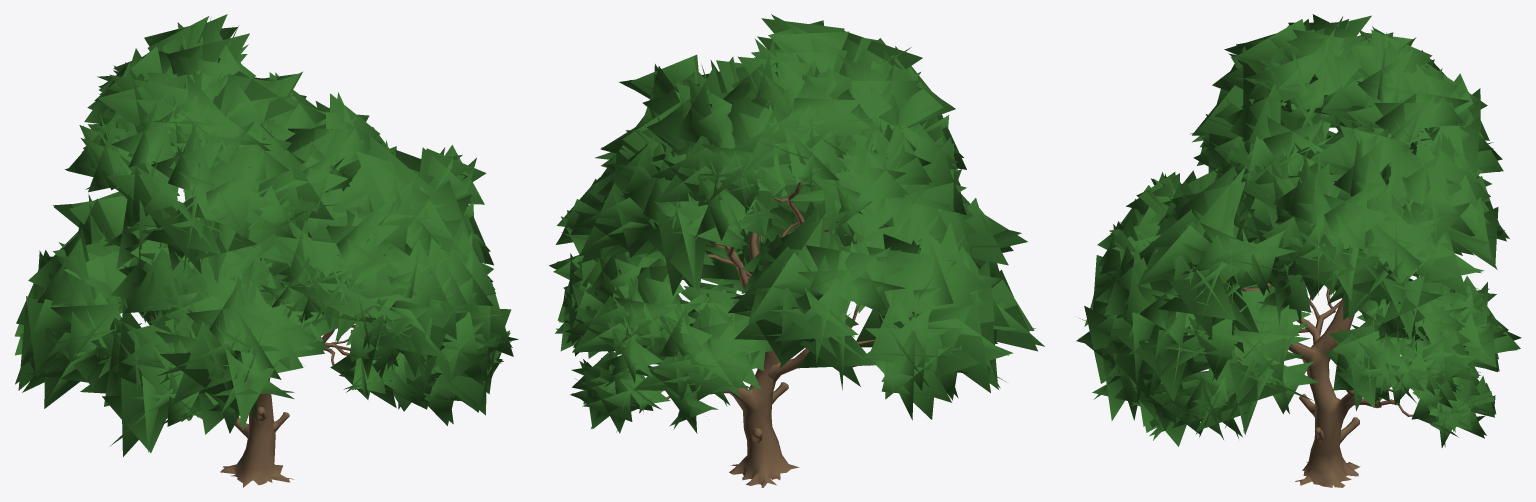
Rendered from Plum_A.obj.
3 views of the same model, side by side, from view 1: azimuth 30°, elevation 25°; view 2: azimuth 150°, elevation 25°; view 3: azimuth 270°, elevation 25° (orthographic). The views are drawn at different scales.
Parts seen in each view (by area): view 1: Leaves, Trunk; view 2: Leaves, Trunk; view 3: Leaves, Trunk.
Part boxes in pixels (<box>): Leaves: <box>14,14,518,456</box>; Trunk: <box>150,315,355,487</box>; Leaves: <box>549,14,1044,433</box>; Trunk: <box>665,181,874,487</box>; Leaves: <box>1076,14,1521,447</box>; Trunk: <box>1238,283,1421,487</box>.
Size of the model in its own units: 39.12 by 39.98 by 37.38.
